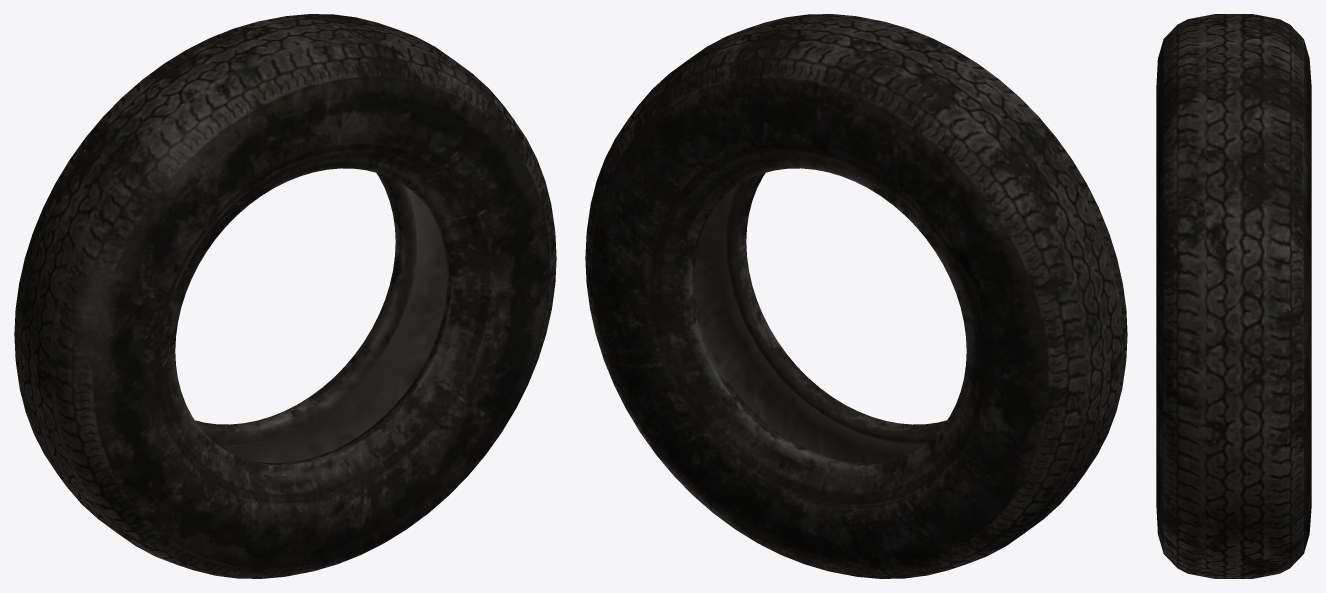
Rendered from old_tyre.glb.
3 views of the same model, side by side, from view 1: azimuth 30°, elevation 25°; view 2: azimuth 150°, elevation 25°; view 3: azimuth 270°, elevation 25° (orthographic). The views are drawn at different scales.
Parts seen in each view (by area): view 1: old_tyre; view 2: old_tyre; view 3: old_tyre.
Part boxes in pixels (x1,y1,x2,y2): old_tyre: (14,14,556,578); old_tyre: (585,14,1127,578); old_tyre: (1156,14,1311,578).
Size of the model in its own units: 0.6 by 0.6 by 0.165.
1 material, 1 textured.
